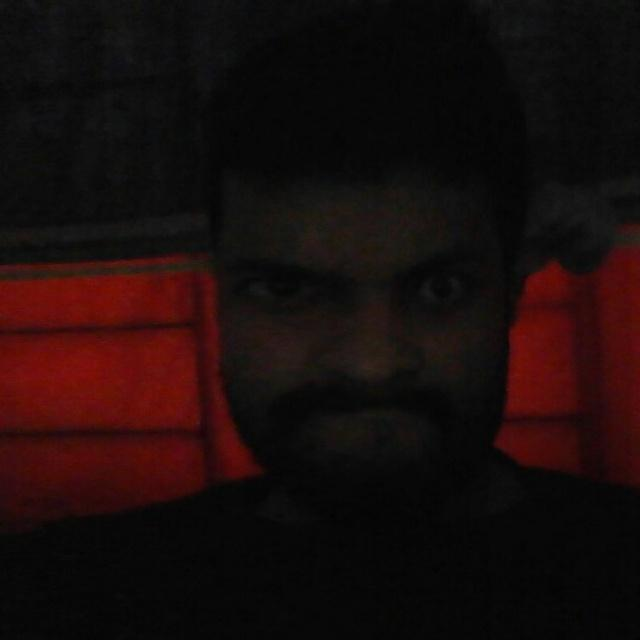Angry: (106, 106, 556, 520)
